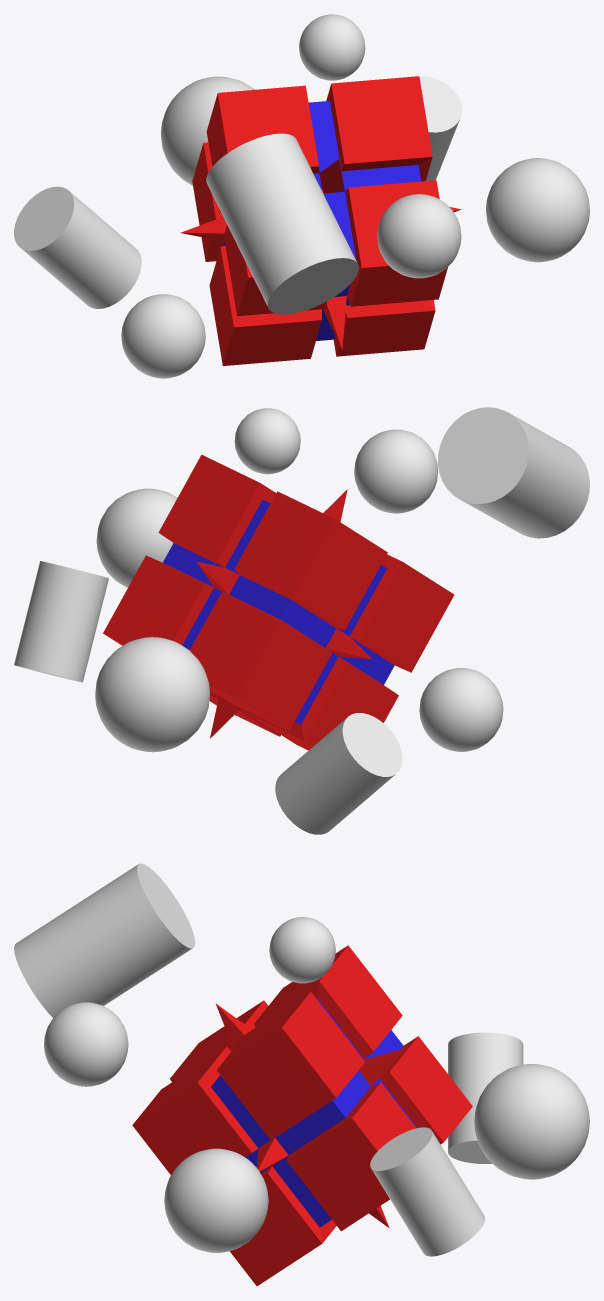
Rendered from Boss.fbx.
The picture shows the model from 3 angles, top to bottom: view 1: azimuth 30°, elevation 25°; view 2: azimuth 150°, elevation 25°; view 3: azimuth 270°, elevation 25°; orthographic projection.
Visible parts, largest first — view 1: Cube.086, Cylinder.001, Cylinder.002, Sphere, Sphere.004, Sphere.002, Sphere.003, Sphere.001, Cylinder; view 2: Cube.086, Cylinder.001, Sphere.003, Cylinder.002, Cylinder, Sphere.004, Sphere.002, Sphere, Sphere.001; view 3: Cube.086, Cylinder.001, Sphere.003, Cylinder, Sphere, Sphere.004, Cylinder.002, Sphere.001.
Part boxes in pixels (x1,y1,x2,y2): Cube.086: [180, 76, 461, 365]; Cylinder.001: [206, 133, 358, 314]; Cylinder.002: [14, 186, 141, 308]; Sphere: [486, 158, 589, 262]; Sphere.004: [377, 194, 461, 278]; Sphere.002: [121, 294, 205, 378]; Sphere.003: [161, 76, 254, 185]; Sphere.001: [299, 14, 365, 80]; Cylinder: [419, 76, 461, 180]; Cube.086: [103, 454, 454, 750]; Cylinder.001: [438, 407, 589, 538]; Sphere.003: [95, 637, 209, 752]; Cylinder.002: [275, 713, 402, 834]; Cylinder: [14, 561, 108, 682]; Sphere.004: [354, 429, 438, 513]; Sphere.002: [419, 668, 503, 751]; Sphere: [96, 488, 177, 587]; Sphere.001: [234, 408, 300, 474]; Cube.086: [132, 945, 472, 1286]; Cylinder.001: [14, 863, 195, 1017]; Sphere.003: [474, 1064, 589, 1179]; Cylinder: [370, 1127, 485, 1256]; Sphere: [164, 1148, 268, 1252]; Sphere.004: [44, 1002, 128, 1086]; Cylinder.002: [448, 1032, 523, 1163]; Sphere.001: [269, 917, 335, 983].
Size of the model in its own units: 1925 by 1427 by 2239.
